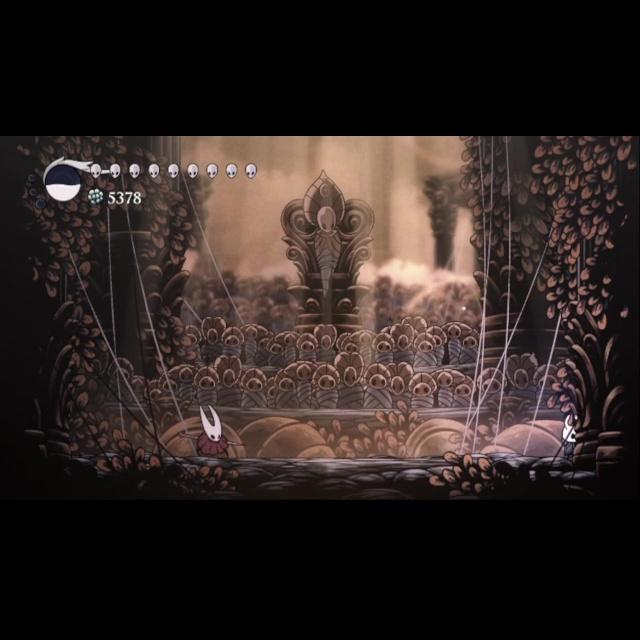EnemyLeadIn: (178, 401, 242, 461)
Player: (550, 409, 590, 461)
